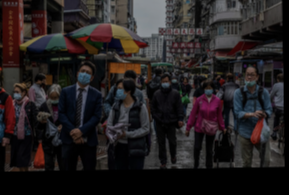mask_weared_incorrect: (244, 70, 257, 86)
with_mask: (77, 67, 92, 85), (115, 84, 127, 101), (12, 88, 23, 101), (48, 94, 59, 104), (160, 79, 170, 90), (203, 86, 214, 96), (39, 79, 45, 87), (171, 77, 177, 84), (216, 76, 221, 81)
without_mask: (182, 78, 188, 84)
